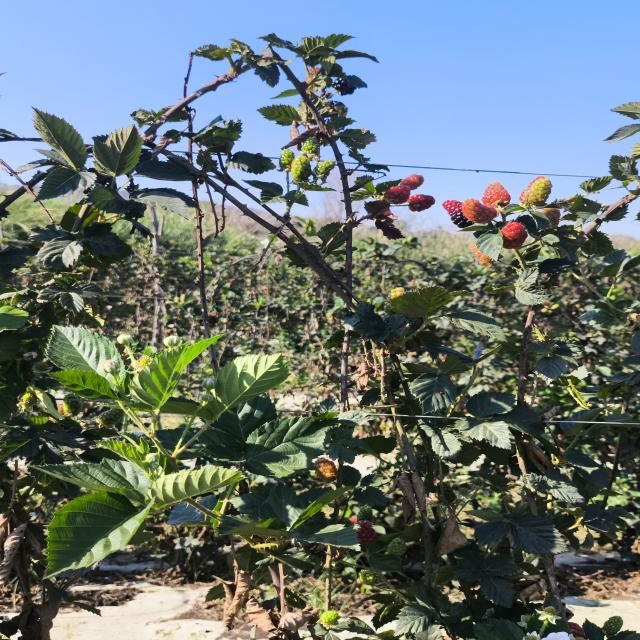marron: (442, 200, 472, 228)
naranja: (462, 199, 497, 224), (501, 221, 527, 249), (481, 182, 510, 206), (383, 185, 410, 203), (407, 194, 435, 211), (400, 174, 424, 190)
verde: (519, 177, 552, 206), (291, 155, 311, 181), (301, 137, 324, 158), (279, 149, 295, 171), (315, 160, 335, 176)
